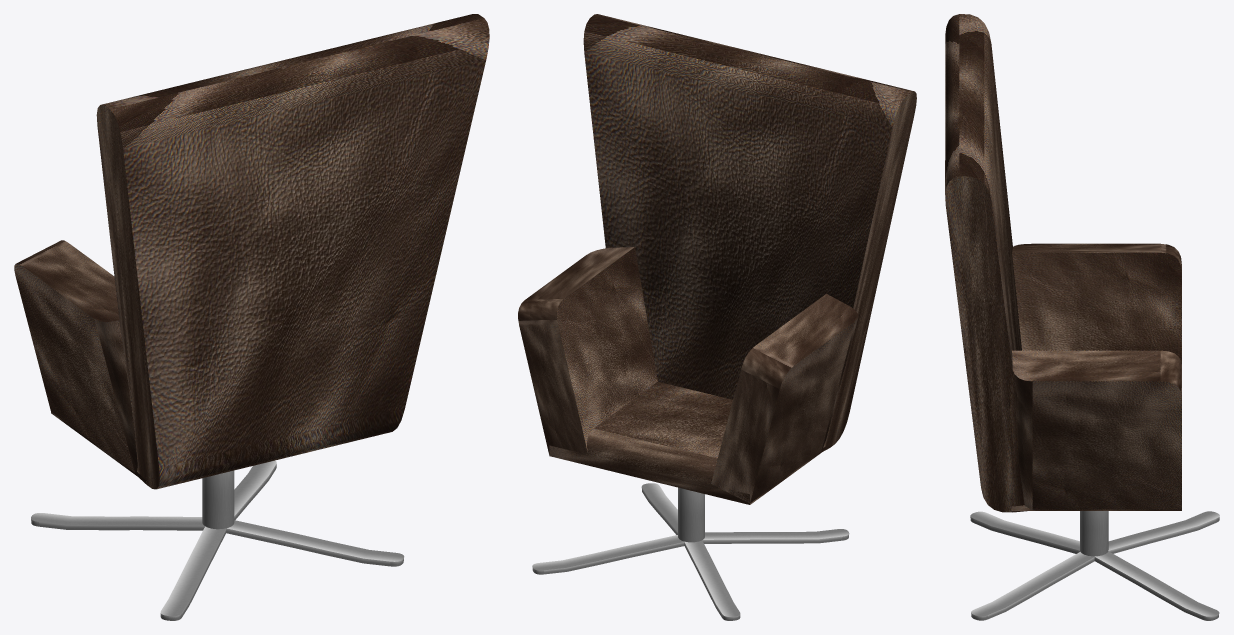
The model's file is Lounge Chair.FBX.
3 renders of one model, left to right at view 1: azimuth 30°, elevation 25°; view 2: azimuth 150°, elevation 25°; view 3: azimuth 270°, elevation 25°, orthographic. The views are drawn at different scales.
Parts seen in each view (by area): view 1: Box008, Box007, Box002, Box001, Box003, Cylinder001, Box004; view 2: Box008, Box006, Box007, Box005, Box004, Box003, Box001, Cylinder001, Box002; view 3: Box006, Box008, Box007, Box004, Box002, Box001, Box003, Cylinder001, Box005.
Boxes of the visible parts, <box> form: Box008: <box>96,14,489,489</box>; Box007: <box>14,240,137,472</box>; Box002: <box>226,520,404,566</box>; Box001: <box>31,513,204,530</box>; Box003: <box>160,526,226,620</box>; Cylinder001: <box>202,470,234,529</box>; Box004: <box>234,460,276,520</box>; Box008: <box>583,14,916,451</box>; Box006: <box>518,247,657,454</box>; Box007: <box>711,294,857,503</box>; Box005: <box>549,381,831,504</box>; Box004: <box>532,535,684,574</box>; Box003: <box>702,529,849,543</box>; Box001: <box>684,540,740,620</box>; Cylinder001: <box>678,487,704,542</box>; Box002: <box>641,483,677,534</box>; Box006: <box>1012,350,1181,509</box>; Box008: <box>945,14,1026,512</box>; Box007: <box>1012,243,1181,365</box>; Box004: <box>1094,551,1219,620</box>; Box002: <box>971,552,1094,620</box>; Box001: <box>1108,511,1219,553</box>; Box003: <box>970,511,1080,553</box>; Cylinder001: <box>1080,511,1108,556</box>; Box005: <box>1011,505,1181,510</box>.
Bounding box in the file's own units: 40.24 × 54.81 × 28.76.
Materials: 2 (2 with a texture image).
